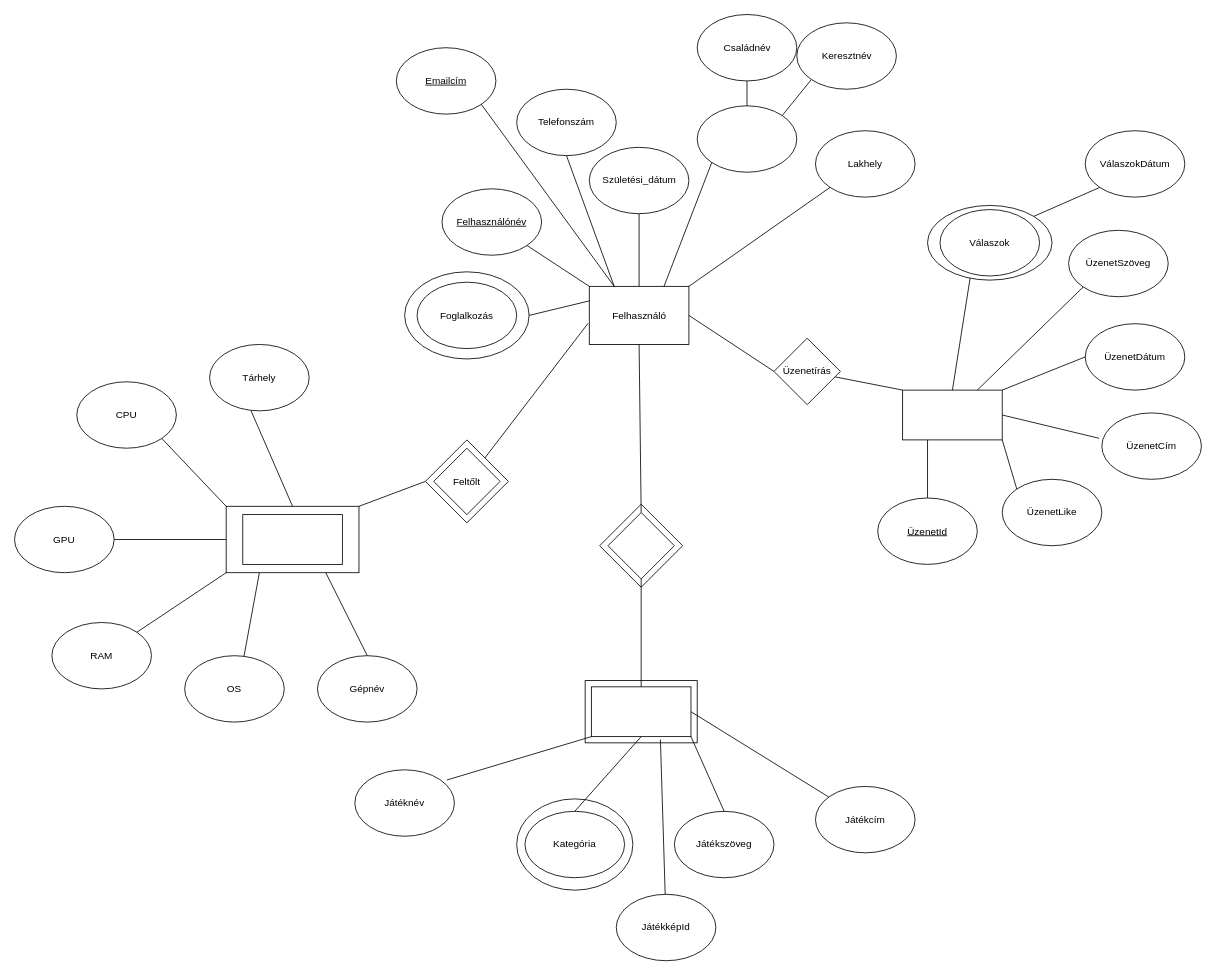
The diagram is 1216 pixels wide and 975 high, and some of its shapes have lost their labels. Each missing label, with the box of its shape:
Gép: (242, 514, 342, 564)
Játék: (591, 686, 691, 737)
Keresés: (607, 512, 674, 579)
Név: (696, 105, 797, 172)
Üzenet: (902, 389, 1002, 440)
